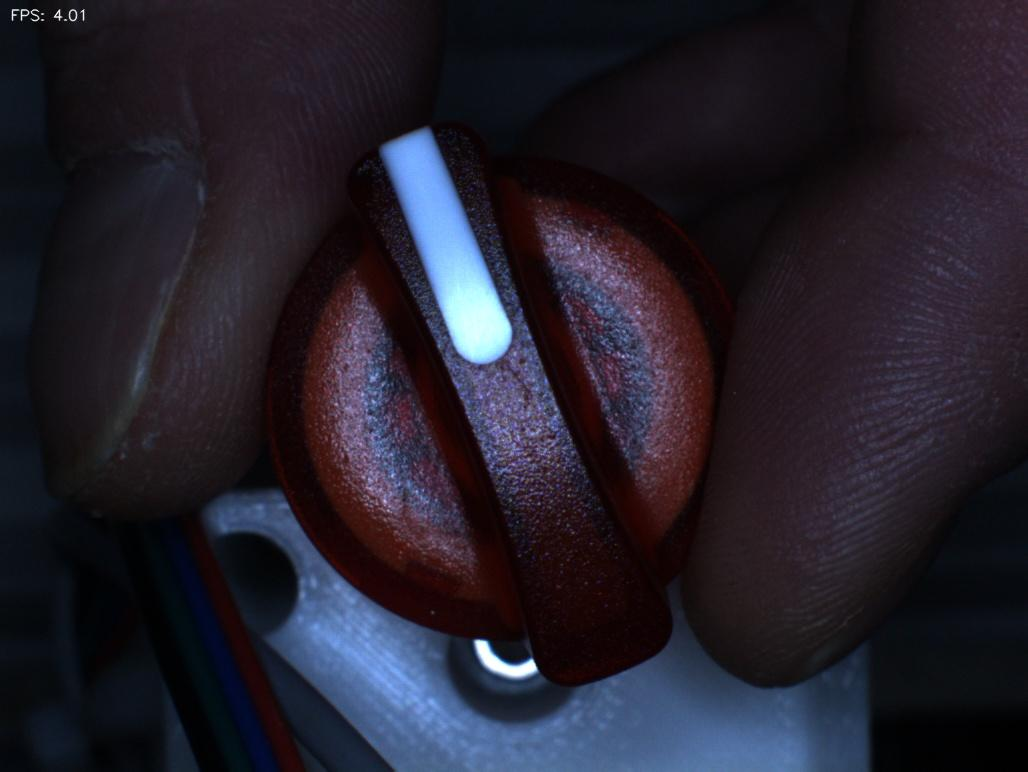Choc: (323, 136, 411, 233)
